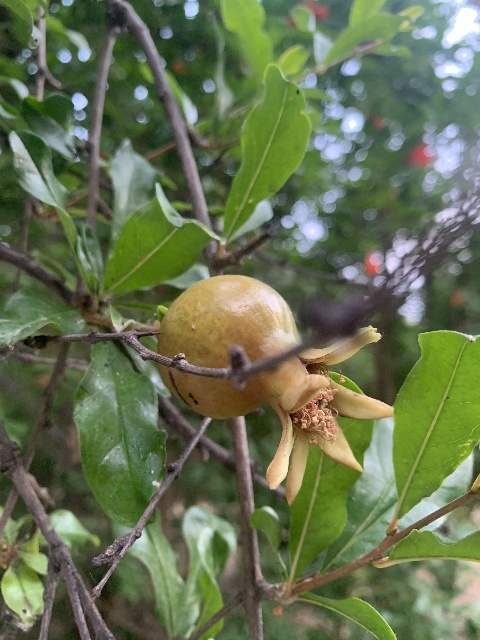early-fruit: (157, 273, 394, 504)
